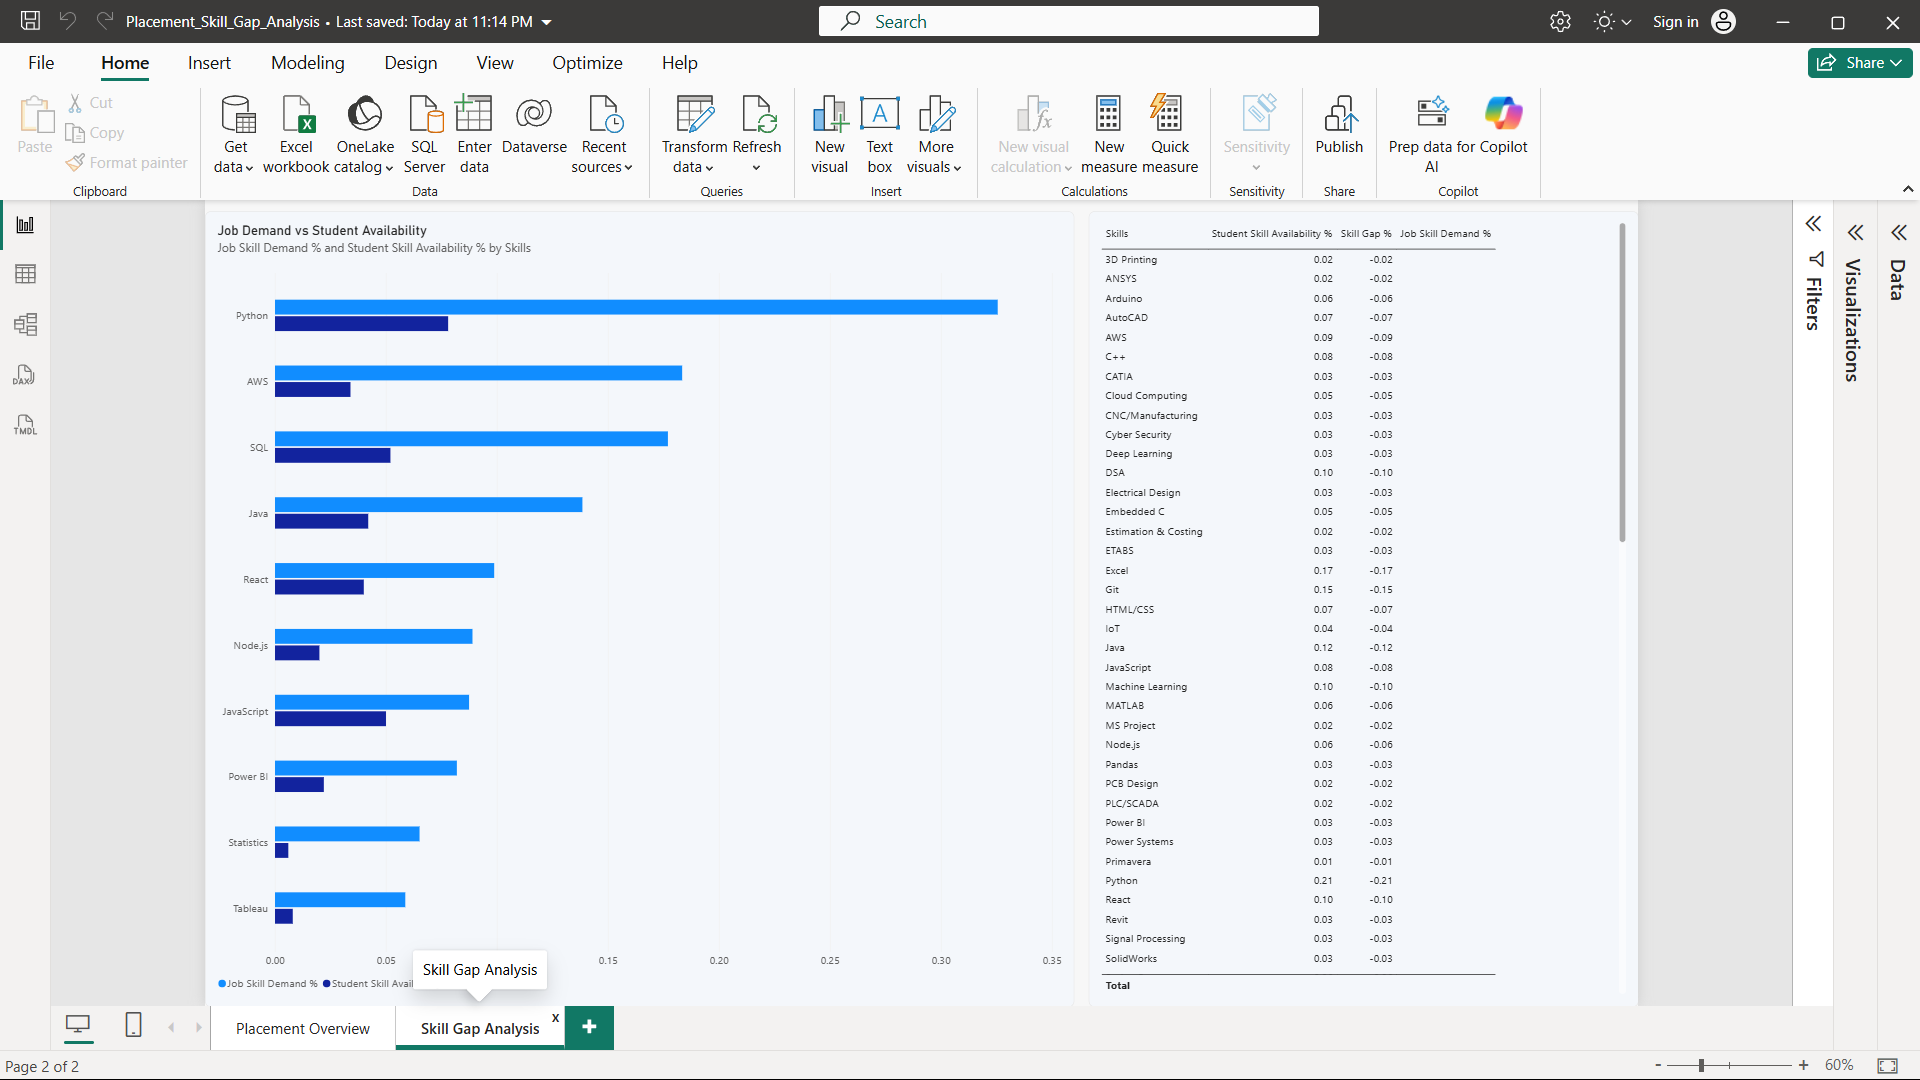

Layout of this report page (visuals, bound fields, positions):
{"tool":"powerbi","page":{"name":"Skill Gap Analysis","canvas":[1920,1080],"ordinal":1},"visuals":[{"type":"clusteredBarChart","title":"Job Demand vs Student Availability","fields":{"Category":["Student_Skills.Skills"],"Y":["Student_Skills.Job Skill Demand %","Student_Skills.Student Skill Availability %"]},"box":[0,14.4,1165,1066.2],"z":0},{"type":"tableEx","fields":{"Values":["Student_Skills.Skills","Student_Skills.Student Skill Availability %","Student_Skills.Skill Gap %","Student_Skills.Job Skill Demand %"]},"box":[1183.5,14.4,736.9,1066.2],"z":1000}]}

Visuals, with their boxes on the page's 1920x1080 design canvas (x1, y1, x2, y2). These are canvas units, not pixel positions in the 1920x1080 screenshot, which may show the page scaled, cropped or inside an application window:
"Job Demand vs Student Availability" clusteredBarChart: detection(0, 14, 1165, 1081)
tableEx - Student_Skills.Skills x Student_Skills.Student Skill Availability %: detection(1184, 14, 1920, 1081)
